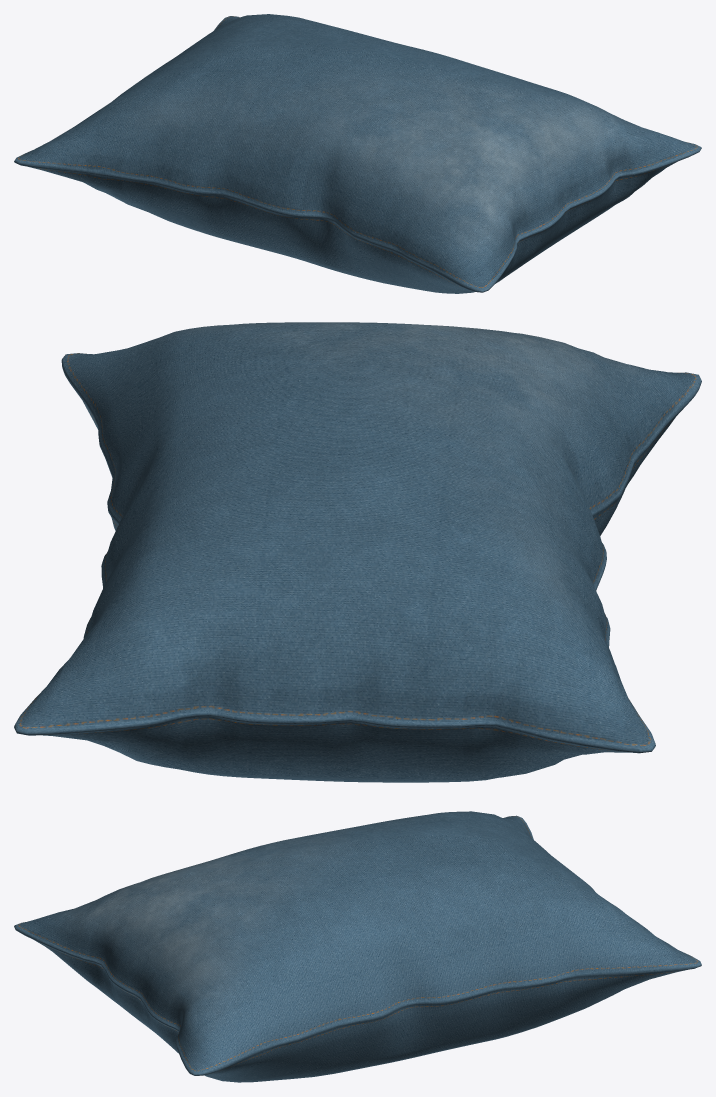
3 views of the same model, one above another, from view 1: azimuth 30°, elevation 25°; view 2: azimuth 150°, elevation 25°; view 3: azimuth 270°, elevation 25° (orthographic). The views are drawn at different scales.
Visible parts, largest first — view 1: Pillow; view 2: Pillow; view 3: Pillow.
Part boxes in pixels (bbox=[...]): Pillow: bbox=[14, 14, 701, 293]; Pillow: bbox=[14, 322, 701, 782]; Pillow: bbox=[14, 811, 701, 1082].
Size of the model in its own units: 0.7776 by 0.2301 by 0.8685.
Materials: 1 (1 with a texture image).
